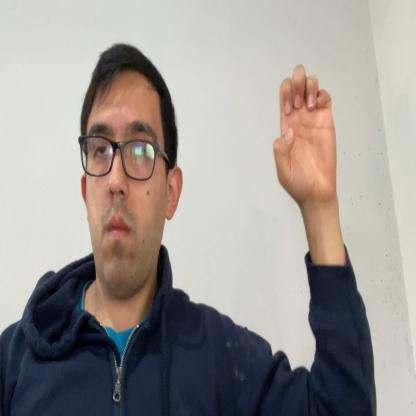E: (273, 62, 338, 200)
